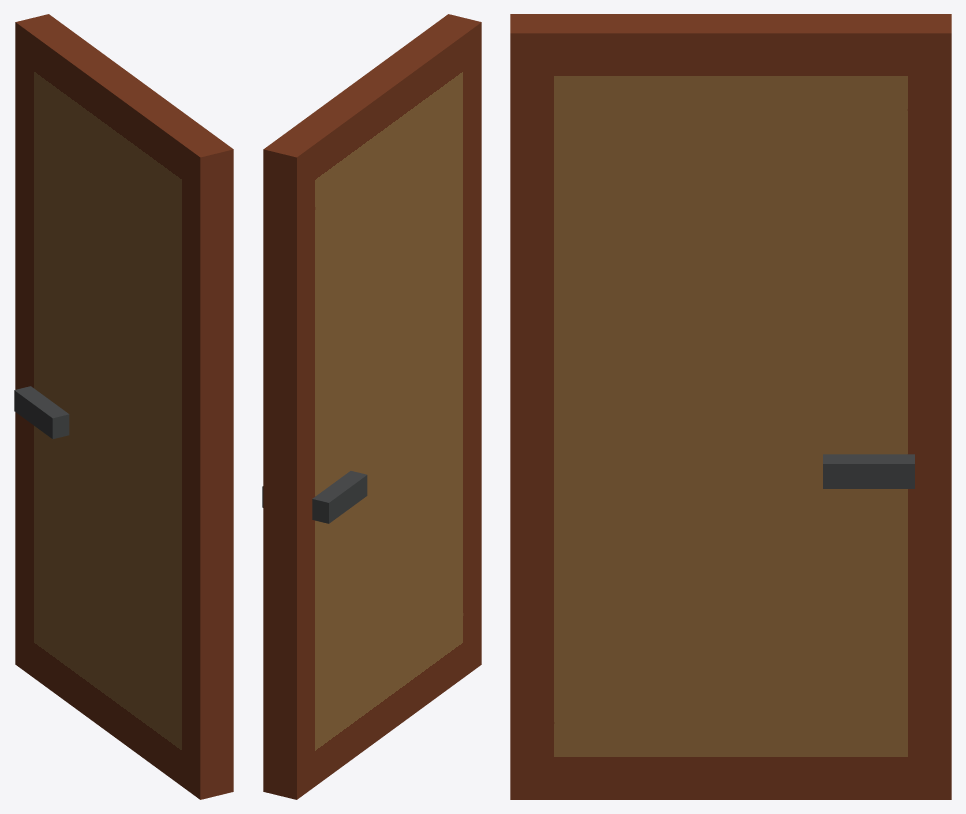
File: Door.gltf
The picture shows the model from 3 angles, left to right: view 1: azimuth 30°, elevation 25°; view 2: azimuth 150°, elevation 25°; view 3: azimuth 270°, elevation 25°; orthographic projection. The views are drawn at different scales.
Visible parts, largest first — view 1: cuboid (×2); view 2: cuboid (×2); view 3: cuboid (×2).
Part boxes in pixels (<box>): cuboid (×2): <box>14,14,233,799</box>; cuboid (×2): <box>262,14,481,799</box>; cuboid (×2): <box>510,14,951,799</box>.
Bounding box in the file's own units: 0.125 × 1.15 × 0.6.
Materials: 1 (1 with a texture image).
